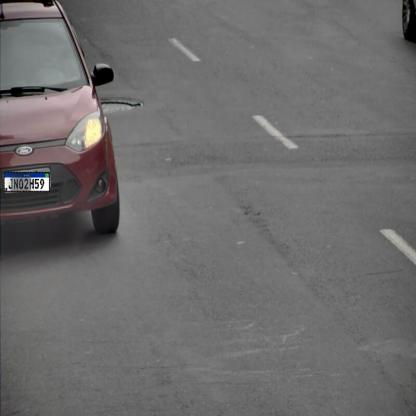PlacaM: (4, 172, 50, 192)
